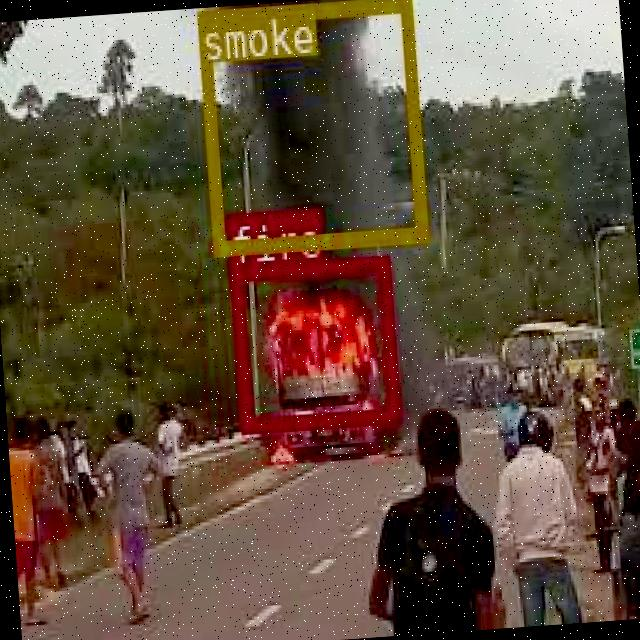fire: (228, 254, 398, 429)
smoke: (194, 0, 424, 251)
